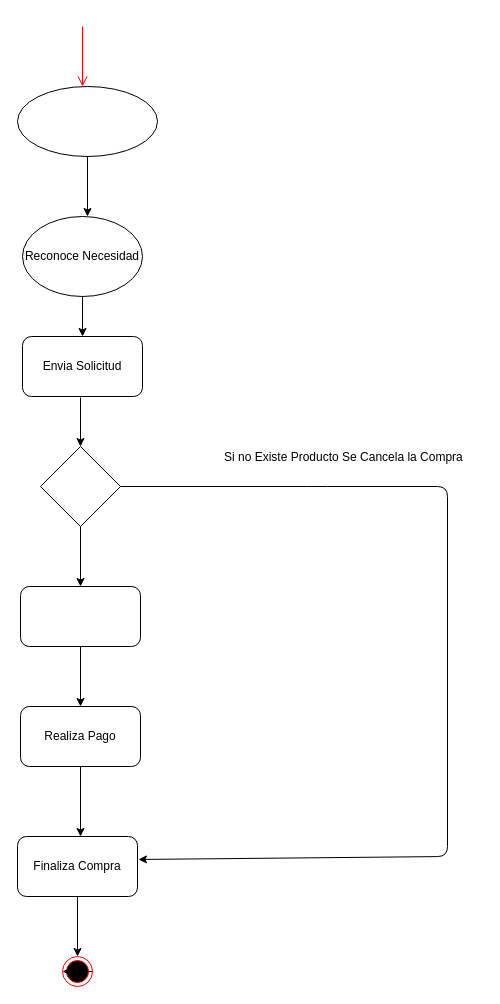
Image size: 500x1004. Some labels were removed from this diagram. The centre of each missing label's shape, as x and y in pixels:
Generar Orden de Compra: point (80, 616)
Ingresa al Sistema: point (87, 121)
